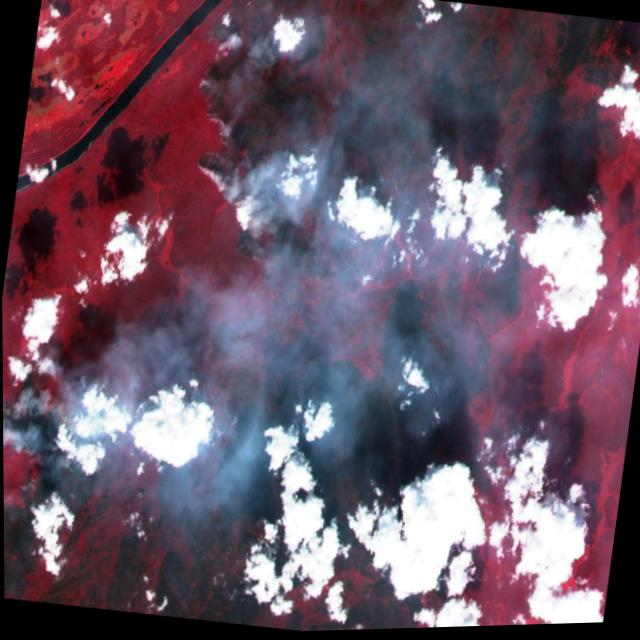fire: (169, 17, 297, 274), (2, 316, 112, 608)
